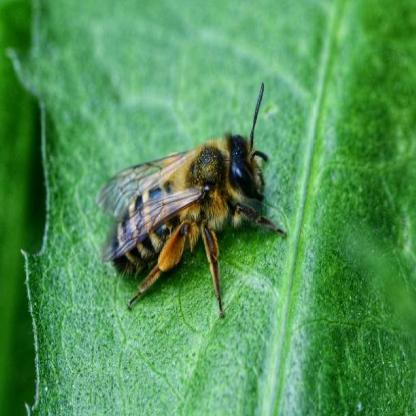sawfly: (93, 77, 291, 326)
